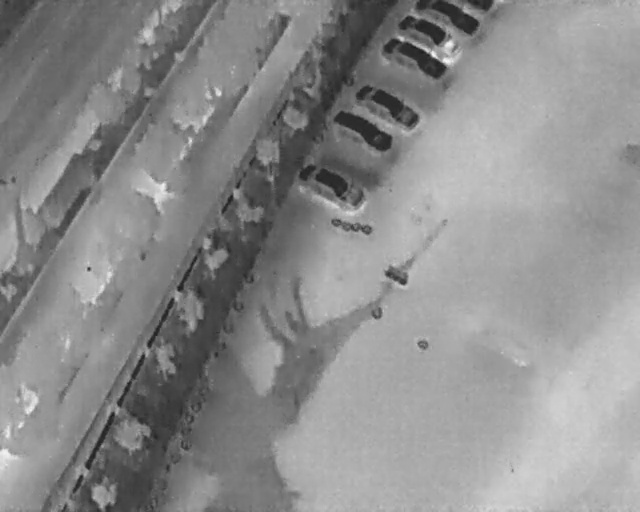Car: (292, 153, 372, 215), (350, 74, 426, 135), (378, 30, 452, 89), (391, 3, 465, 62), (326, 101, 399, 159), (415, 1, 479, 37), (469, 0, 498, 12)
